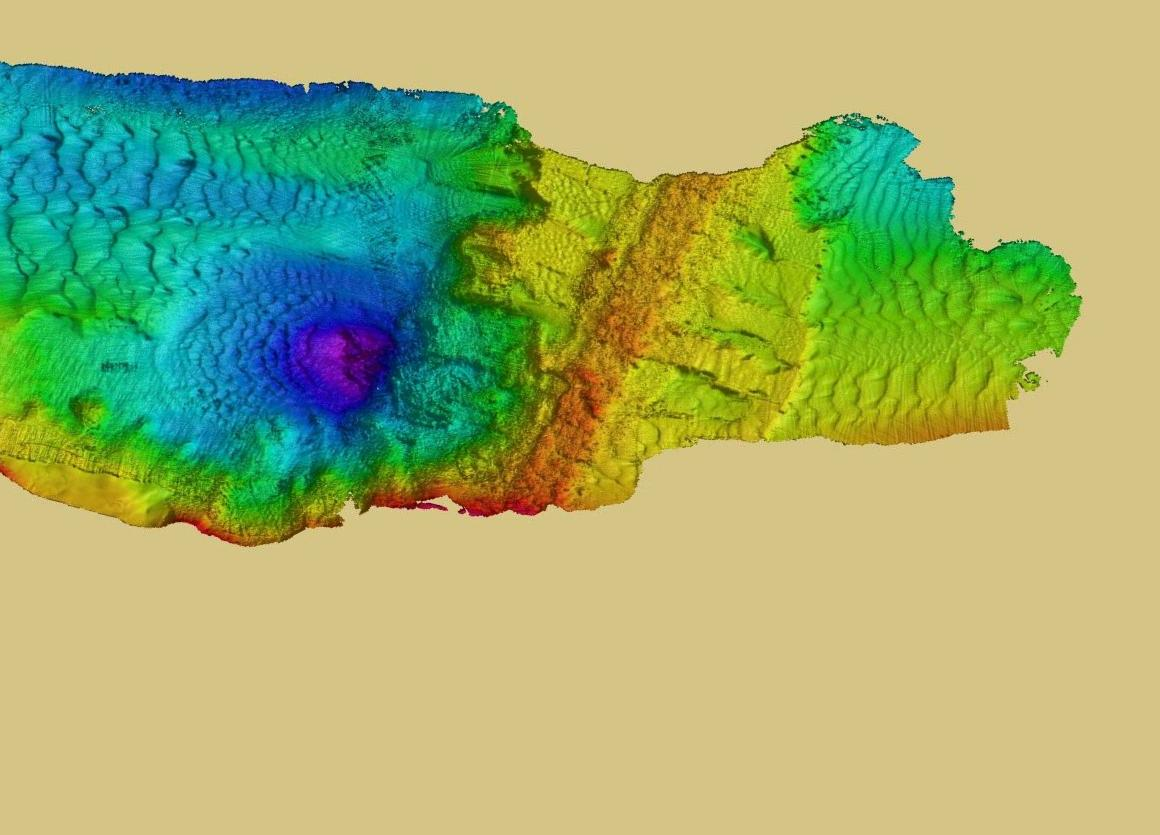Dune: (843, 105, 1092, 557), (7, 82, 220, 300)
Scarp: (69, 440, 479, 586)
Scour pit: (260, 270, 393, 414)
Submerged dike: (514, 352, 674, 559), (568, 165, 732, 354)
